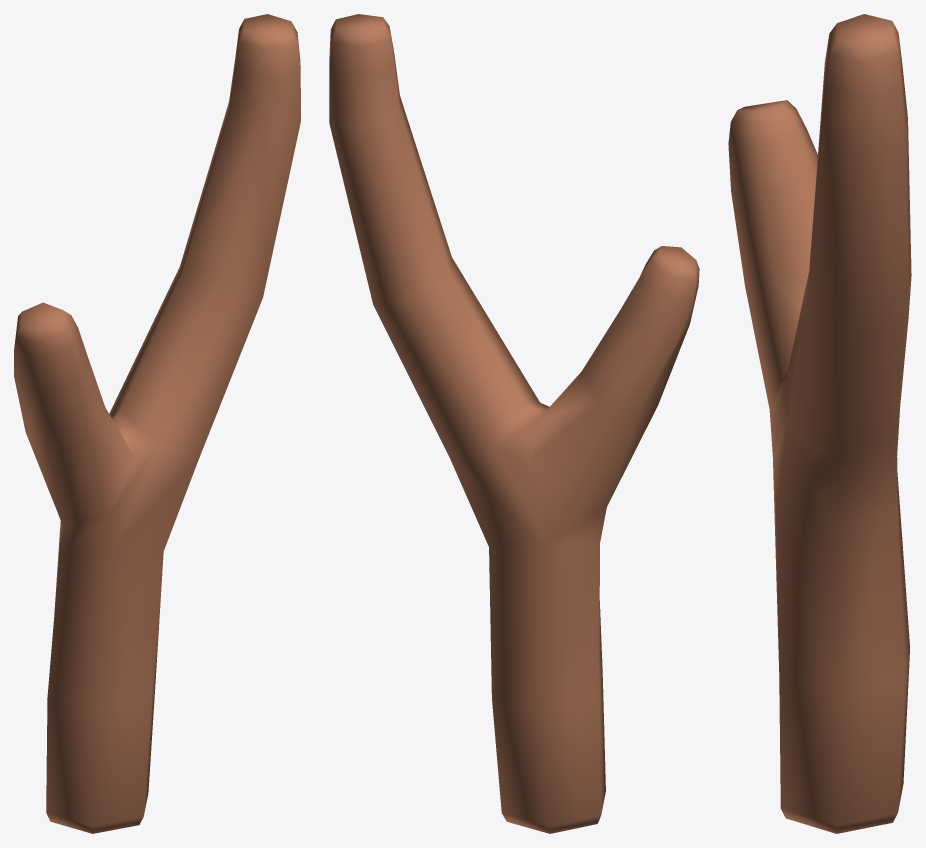
Rendered from Tree_Btm_C_03_LOD2.gltf.
3 views of the same model, side by side, from view 1: azimuth 30°, elevation 25°; view 2: azimuth 150°, elevation 25°; view 3: azimuth 270°, elevation 25° (orthographic). The views are drawn at different scales.
Parts seen in each view (by area): view 1: Tree_Btm_C_03_LOD2_Cylinder.670; view 2: Tree_Btm_C_03_LOD2_Cylinder.670; view 3: Tree_Btm_C_03_LOD2_Cylinder.670.
Boxes of the visible parts, left/top/right/bottom form: Tree_Btm_C_03_LOD2_Cylinder.670: left=14, top=14, right=300, bottom=833; Tree_Btm_C_03_LOD2_Cylinder.670: left=329, top=14, right=699, bottom=833; Tree_Btm_C_03_LOD2_Cylinder.670: left=728, top=14, right=911, bottom=833.
Bounding box in the file's own units: 3.48 × 7.69 × 1.43.
Materials: 1 (1 with a texture image).
